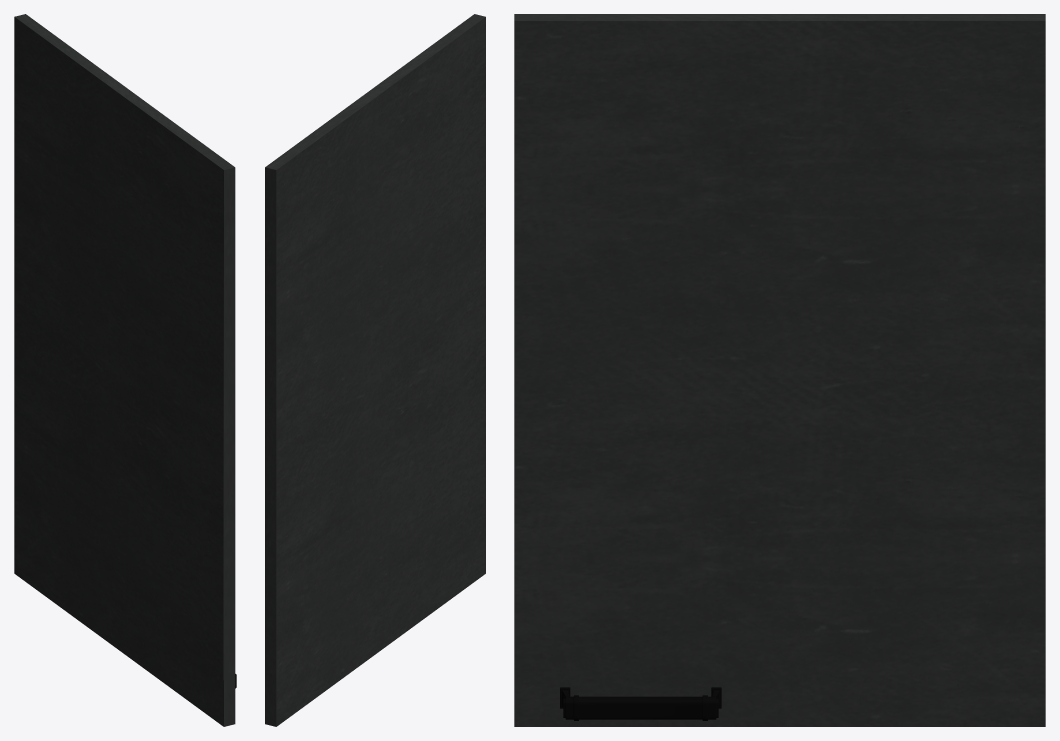
The model's file is rightdoor.glb.
3 views of the same model, side by side, from view 1: azimuth 30°, elevation 25°; view 2: azimuth 150°, elevation 25°; view 3: azimuth 270°, elevation 25° (orthographic). The views are drawn at different scales.
Visible parts, largest first — view 1: visuals.002; view 2: visuals.002; view 3: visuals.002.
Boxes of the visible parts, bbox=[...] form: visuals.002: bbox=[14, 14, 236, 726]; visuals.002: bbox=[265, 14, 485, 726]; visuals.002: bbox=[514, 14, 1045, 726].
Size of the model in its own units: 0.0558 by 0.8834 by 0.6023.
Materials: 1 (1 with a texture image).
